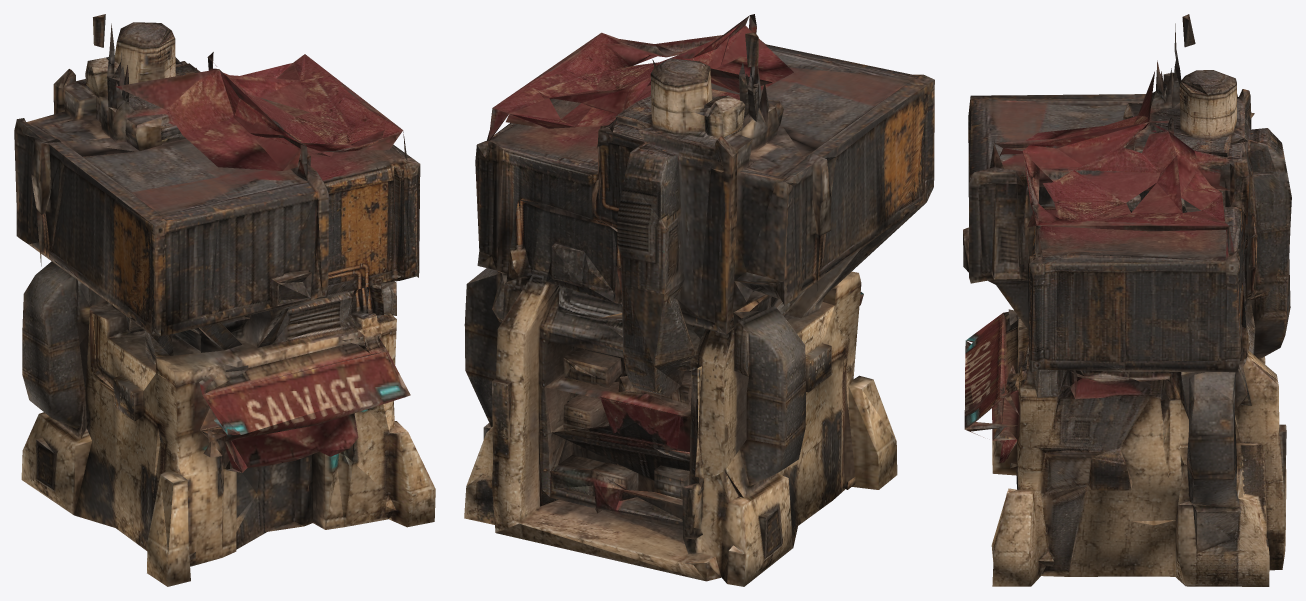
File: salvage.fbx
3 renders of one model, left to right at view 1: azimuth 30°, elevation 25°; view 2: azimuth 150°, elevation 25°; view 3: azimuth 270°, elevation 25°, orthographic. The views are drawn at different scales.
Visible parts, largest first — view 1: Mesh_0; view 2: Mesh_0; view 3: Mesh_0.
Boxes of the visible parts, x1=… form: Mesh_0: x1=14, y1=14, x2=435, y2=586; Mesh_0: x1=464, y1=14, x2=934, y2=586; Mesh_0: x1=963, y1=14, x2=1291, y2=586.
Size of the model in its own units: 121 by 177 by 114.
Materials: 1 (1 with a texture image).
